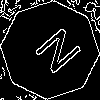N: (25, 25, 84, 83)
